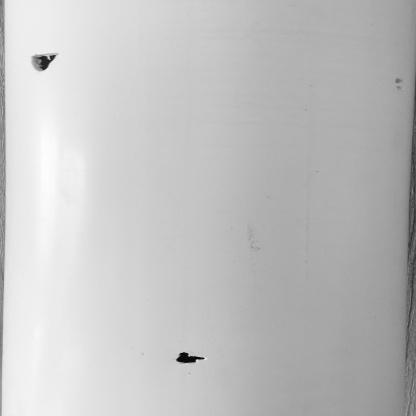kongdong: (167, 345, 213, 371), (22, 50, 66, 73)
